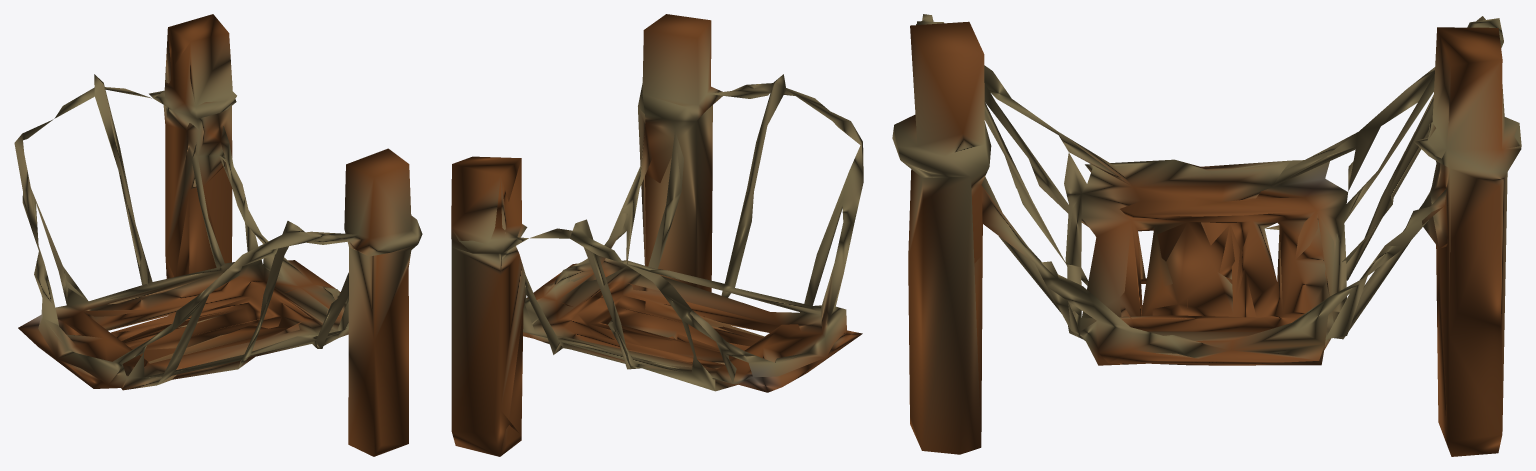
File: gen3d-rope-bridge-lod1.glb
The picture shows the model from 3 angles, left to right: view 1: azimuth 30°, elevation 25°; view 2: azimuth 150°, elevation 25°; view 3: azimuth 270°, elevation 25°; orthographic projection. The views are drawn at different scales.
Visible parts, largest first — view 1: part_0; view 2: part_0; view 3: part_0.
Part boxes in pixels (left/top/right/bottom): part_0: left=14, top=14, right=422, bottom=456; part_0: left=451, top=14, right=863, bottom=456; part_0: left=892, top=14, right=1521, bottom=456.
Size of the model in its own units: 1.04 by 0.9879 by 1.41.
